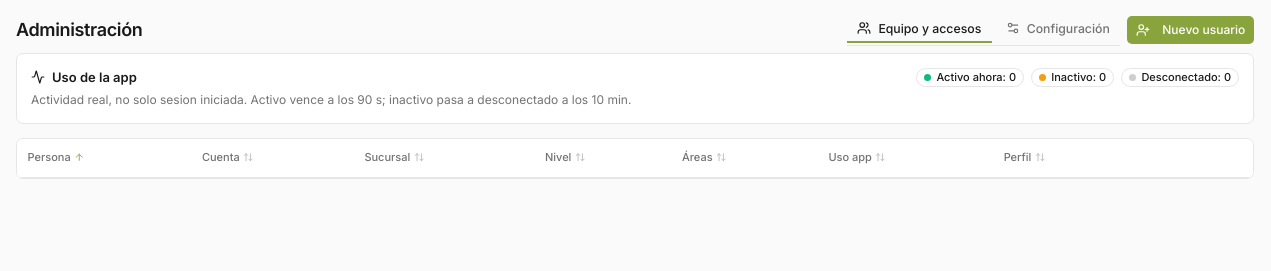
Administración: alta de operativos sin acceso › lets an administrator enter the missing goal without a seeded default
Press the mouse on the tab "Configuración" at x=1058, y=29, box [995, 15, 1120, 43]
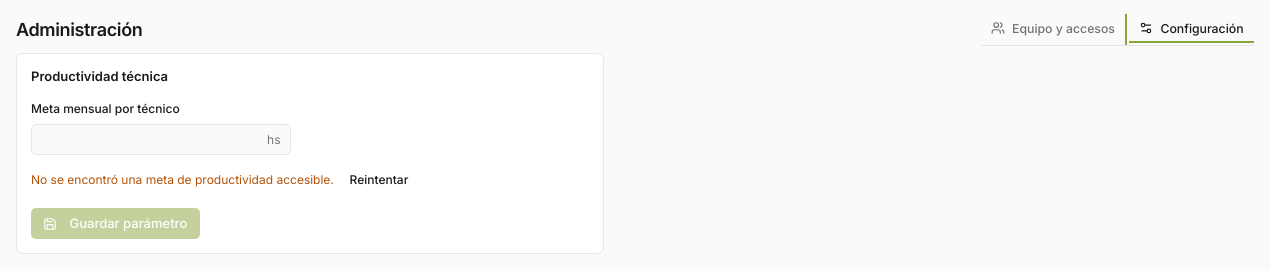
Expected: the message "No se encontró una meta de productividad accesible." is shown, [31, 171, 334, 189]
Expected: the number field labelled "Meta mensual por técnico" is not empty
Type "144" into the number field labelled "Meta mensual por técnico". click: x=161, y=140
box: [31, 124, 291, 155]
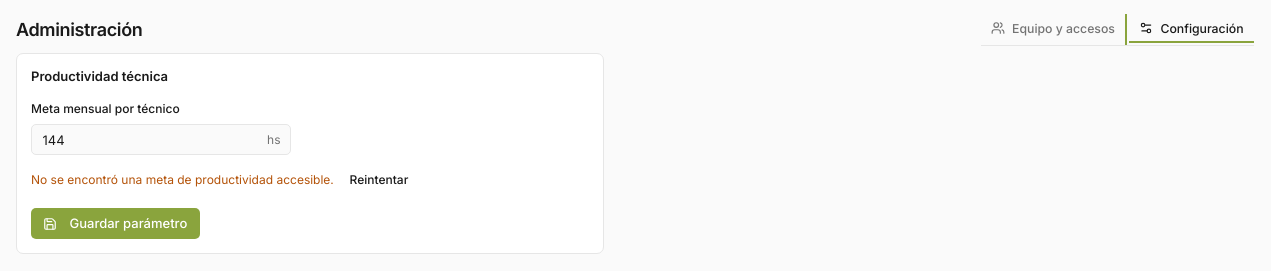
Click the button "Guardar parámetro". click: x=115, y=224
box: [31, 208, 200, 239]
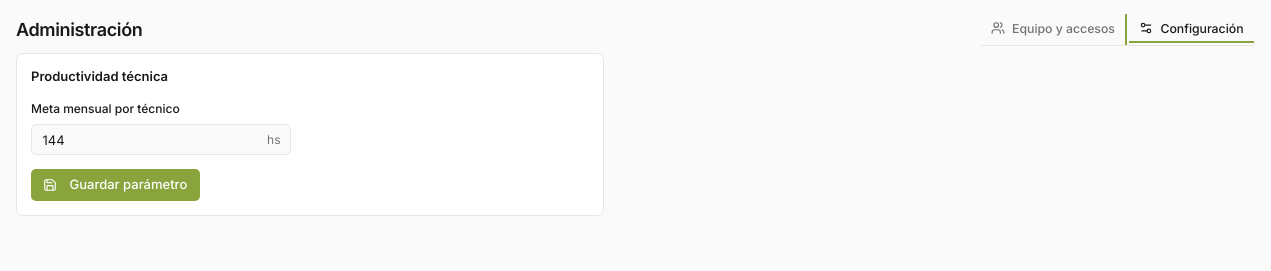
Expected: the message "No se encontró una meta de productividad accesible." is gone
